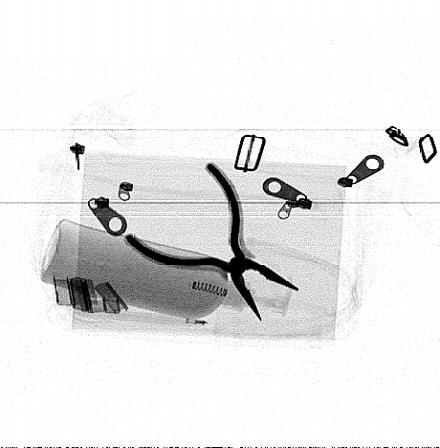Pliers: (123, 161, 300, 322)
